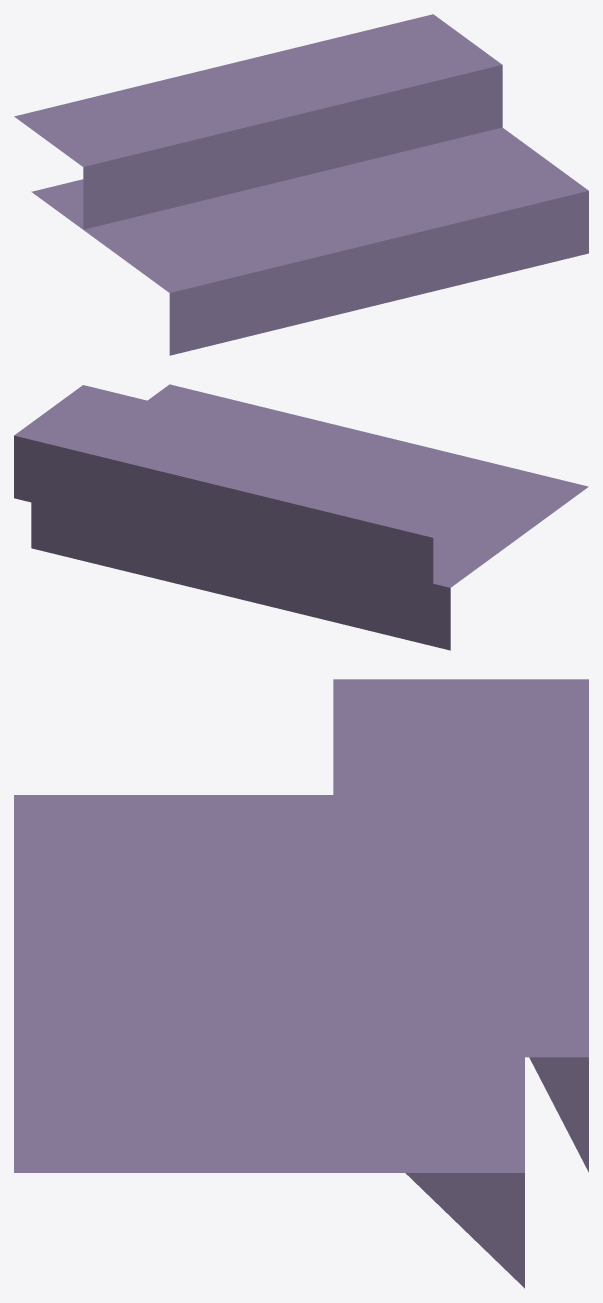
File: riser.glb
3 views of the same model, one above another, from view 1: azimuth 30°, elevation 25°; view 2: azimuth 150°, elevation 25°; view 3: azimuth 270°, elevation 25° (orthographic). The views are drawn at different scales.
Bounding box in the file's own units: 1.4 × 0.4 × 0.9.
